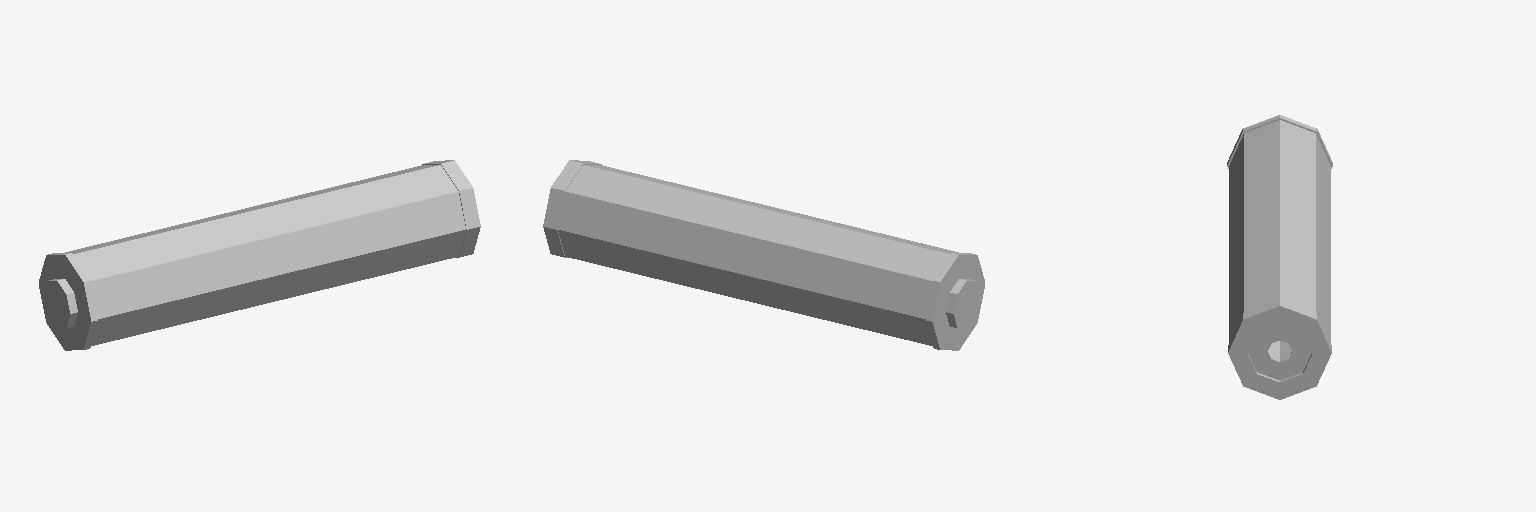
Rendered from ar_suppressor.obj.
The picture shows the model from 3 angles: view 1: azimuth 30°, elevation 25°; view 2: azimuth 150°, elevation 25°; view 3: azimuth 270°, elevation 25°; orthographic projection.
Parts seen in each view (by area): view 1: attachmentModel; view 2: attachmentModel; view 3: attachmentModel.
Part boxes in pixels (x1,y1,x2,y2): attachmentModel: (39, 160, 480, 350); attachmentModel: (543, 160, 984, 350); attachmentModel: (1227, 115, 1332, 399).
Bounding box in the file's own units: 6.18 × 1.42 × 1.42.